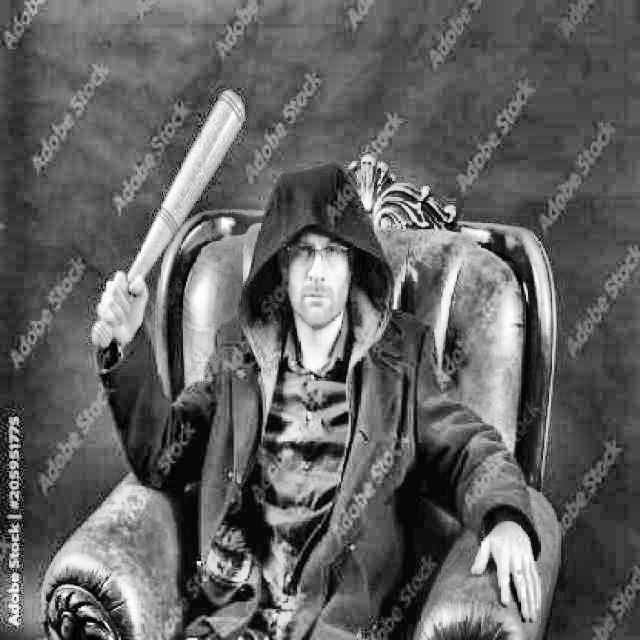tongkat pemukul: (81, 83, 260, 367)
